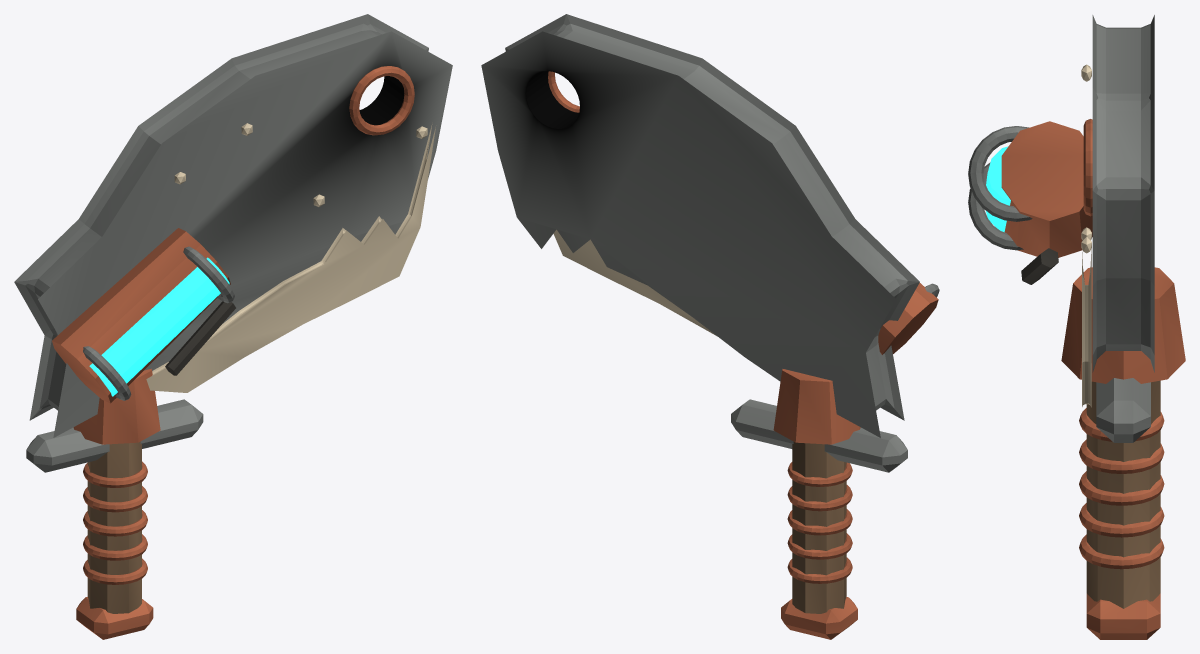
File: ash-cleaver.glb
3 views of the same model, side by side, from view 1: azimuth 30°, elevation 25°; view 2: azimuth 150°, elevation 25°; view 3: azimuth 270°, elevation 25° (orthographic). The views are drawn at different scales.
Parts seen in each view (by area): view 1: Cleaver | forged silhouette, Cleaver | pale cutting bevel, Cleaver | reactor cage upper, Cleaver | wrapped handle, Cleaver | cyan reactor, Cleaver | cross guard, Cleaver | socket collar, Cleaver | punched rim, Cleaver | pommel, Cleaver | reactor power cable, Cleaver | reactor clamp.001, Cleaver | reactor clamp (+5 smaller); view 2: Cleaver | forged silhouette, Cleaver | wrapped handle, Cleaver | socket collar, Cleaver | cross guard, Cleaver | pale cutting bevel, Cleaver | reactor cage upper, Cleaver | pommel, Cleaver | grip binding.002, Cleaver | grip binding.001, Cleaver | grip binding, Cleaver | grip binding.003, Cleaver | grip binding.004; view 3: Cleaver | forged silhouette, Cleaver | reactor cage upper, Cleaver | wrapped handle, Cleaver | socket collar, Cleaver | cross guard, Cleaver | pommel, Cleaver | reactor clamp.001, Cleaver | pale cutting bevel, Cleaver | grip binding.002, Cleaver | grip binding.001, Cleaver | grip binding, Cleaver | grip binding.003 (+5 smaller).
Boxes of the visible parts, bbox=[...] form: Cleaver | forged silhouette: bbox=[14, 14, 452, 437]; Cleaver | pale cutting bevel: bbox=[146, 124, 436, 392]; Cleaver | reactor cage upper: bbox=[52, 228, 230, 403]; Cleaver | wrapped handle: bbox=[87, 441, 141, 613]; Cleaver | cyan reactor: bbox=[89, 257, 229, 396]; Cleaver | cross guard: bbox=[26, 399, 203, 472]; Cleaver | socket collar: bbox=[73, 368, 160, 444]; Cleaver | punched rim: bbox=[349, 66, 414, 135]; Cleaver | pommel: bbox=[76, 596, 153, 639]; Cleaver | reactor power cable: bbox=[165, 301, 235, 375]; Cleaver | reactor clamp.001: bbox=[183, 246, 234, 303]; Cleaver | reactor clamp: bbox=[83, 346, 131, 400]; Cleaver | forged silhouette: bbox=[481, 14, 919, 437]; Cleaver | wrapped handle: bbox=[792, 442, 846, 613]; Cleaver | socket collar: bbox=[773, 369, 860, 444]; Cleaver | cross guard: bbox=[731, 399, 907, 472]; Cleaver | pale cutting bevel: bbox=[553, 229, 717, 336]; Cleaver | reactor cage upper: bbox=[878, 283, 938, 354]; Cleaver | pommel: bbox=[781, 597, 857, 639]; Cleaver | grip binding.002: bbox=[787, 509, 852, 535]; Cleaver | grip binding.001: bbox=[787, 533, 852, 559]; Cleaver | grip binding: bbox=[787, 557, 852, 583]; Cleaver | grip binding.003: bbox=[787, 485, 852, 511]; Cleaver | grip binding.004: bbox=[787, 462, 852, 486]; Cleaver | forged silhouette: bbox=[1092, 15, 1154, 372]; Cleaver | reactor cage upper: bbox=[1001, 121, 1092, 257]; Cleaver | wrapped handle: bbox=[1086, 380, 1160, 608]; Cleaver | socket collar: bbox=[1061, 267, 1185, 383]; Cleaver | cross guard: bbox=[1096, 378, 1150, 442]; Cleaver | pommel: bbox=[1086, 593, 1160, 639]; Cleaver | reactor clamp.001: bbox=[968, 126, 1032, 221]; Cleaver | pale cutting bevel: bbox=[1082, 247, 1091, 407]; Cleaver | grip binding.002: bbox=[1079, 471, 1164, 505]; Cleaver | grip binding.001: bbox=[1079, 503, 1164, 537]; Cleaver | grip binding: bbox=[1079, 534, 1164, 569]; Cleaver | grip binding.003: bbox=[1079, 439, 1164, 473].
Size of the model in its own units: 1.61 by 2.01 by 0.56.
